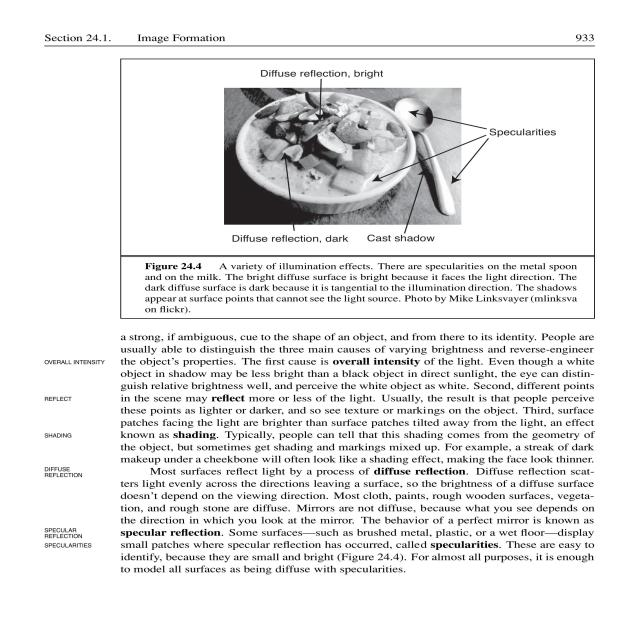diagram: (119, 60, 598, 319)
